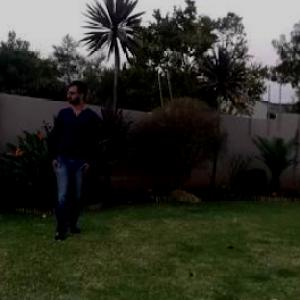follow: (40, 61, 107, 264)
